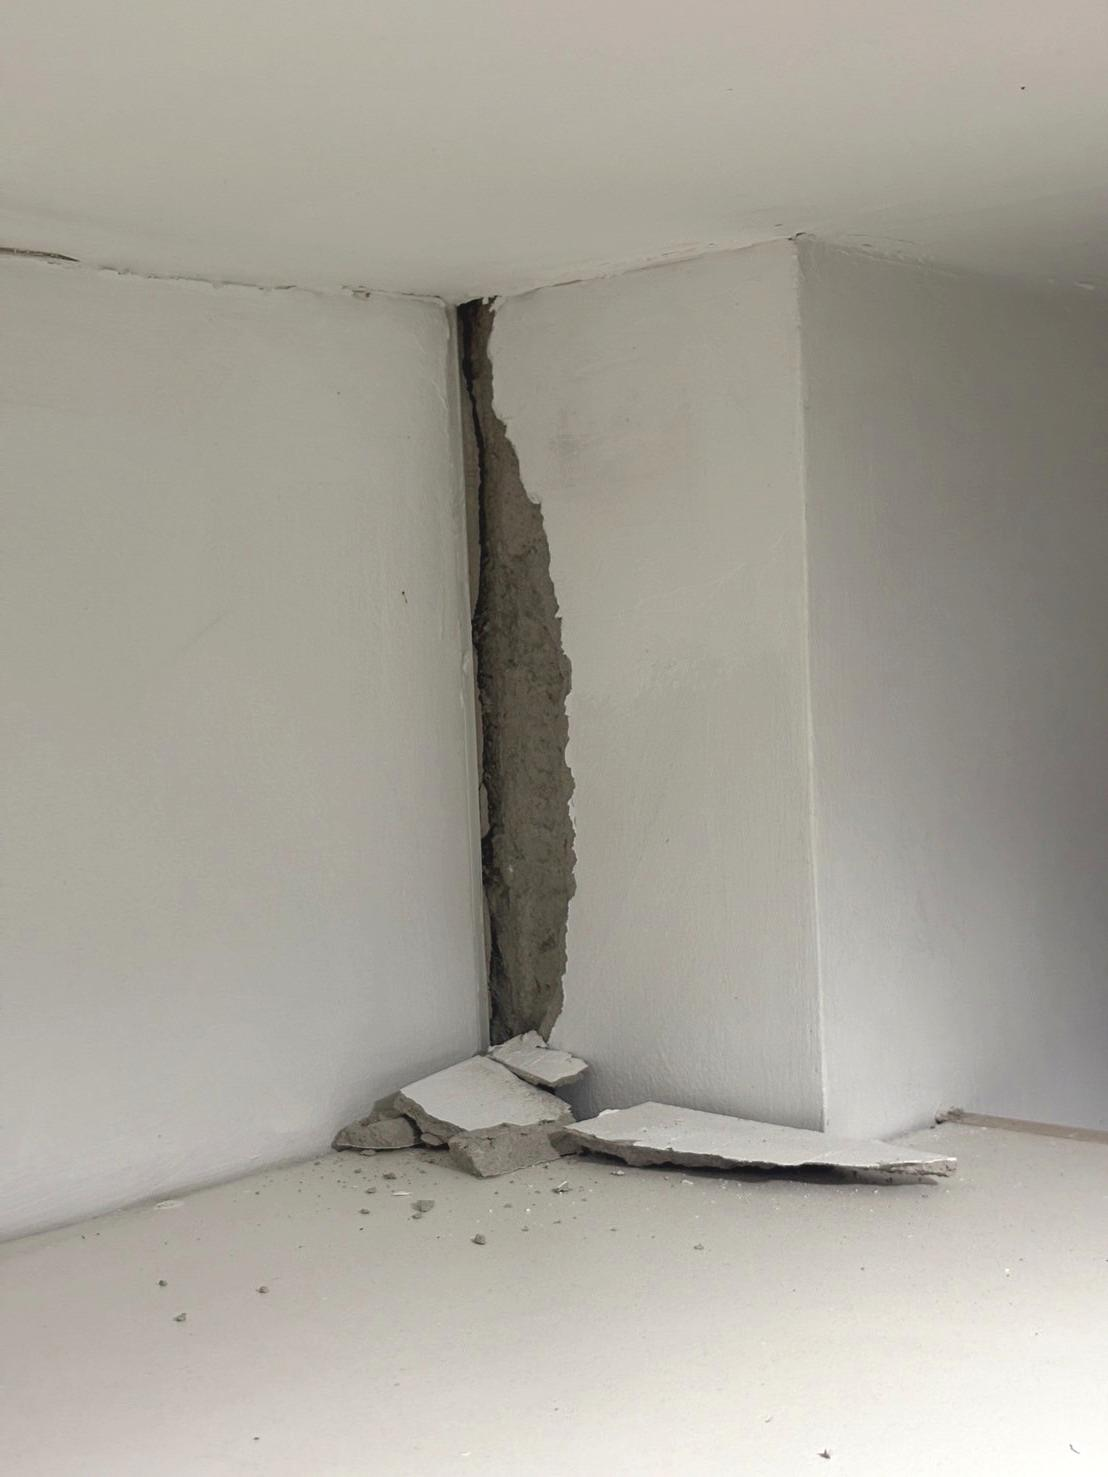High: (412, 296, 597, 1067)
